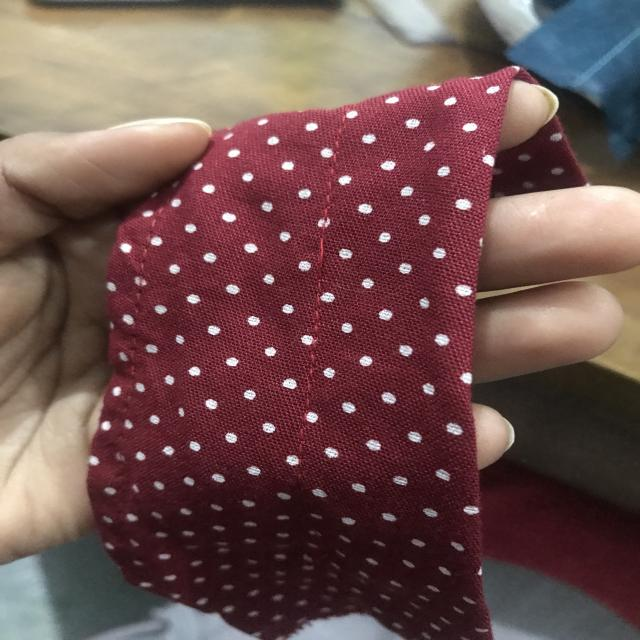skip: (306, 227, 334, 282)
